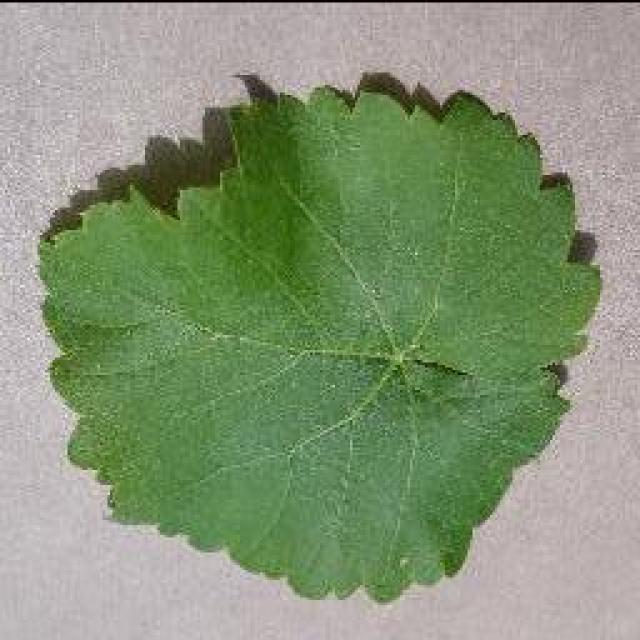Grape___healthy: (40, 90, 598, 598)
